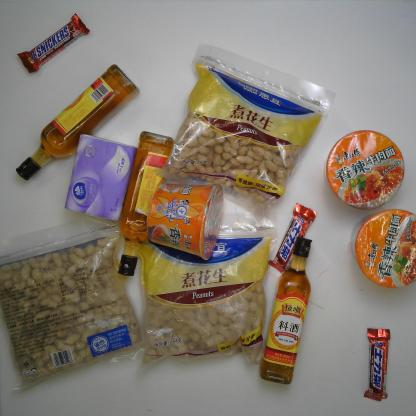Chocolate: (16, 13, 91, 74), (268, 202, 319, 274), (363, 327, 391, 402)
Dried Food: (155, 40, 336, 216), (0, 214, 148, 401), (138, 207, 281, 374)
Instant Noodles: (322, 130, 407, 212), (145, 182, 225, 262), (350, 209, 416, 289)
Seasoner: (15, 64, 140, 182), (116, 129, 175, 276), (258, 236, 313, 386)
Tissue: (64, 132, 138, 221)
